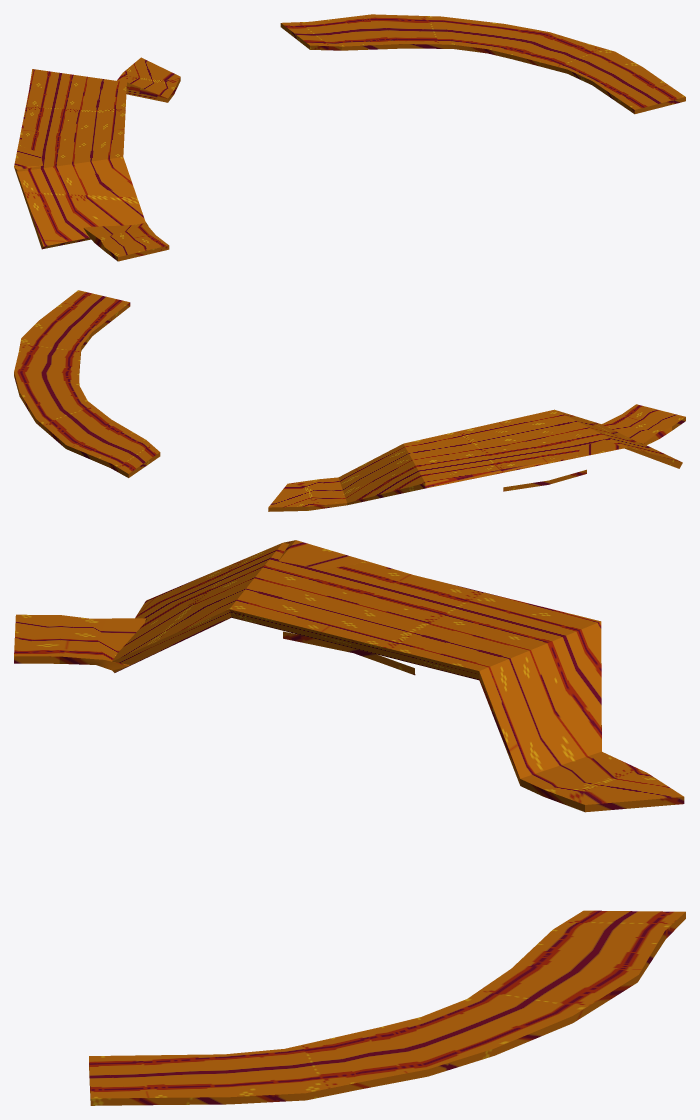
File: Woodenwalkway.fbx
The picture shows the model from 3 angles, top to bottom: view 1: azimuth 30°, elevation 25°; view 2: azimuth 150°, elevation 25°; view 3: azimuth 270°, elevation 25°; orthographic projection. The views are drawn at different scales.
Parts seen in each view (by area): view 1: pCube31; view 2: pCube31; view 3: pCube31.
Boxes of the visible parts, x1=… form: pCube31: x1=14, y1=14, x2=685, y2=261; pCube31: x1=14, y1=290, x2=685, y2=511; pCube31: x1=14, y1=540, x2=685, y2=1105.
Bounding box in the file's own units: 4397 × 356 × 2433.
